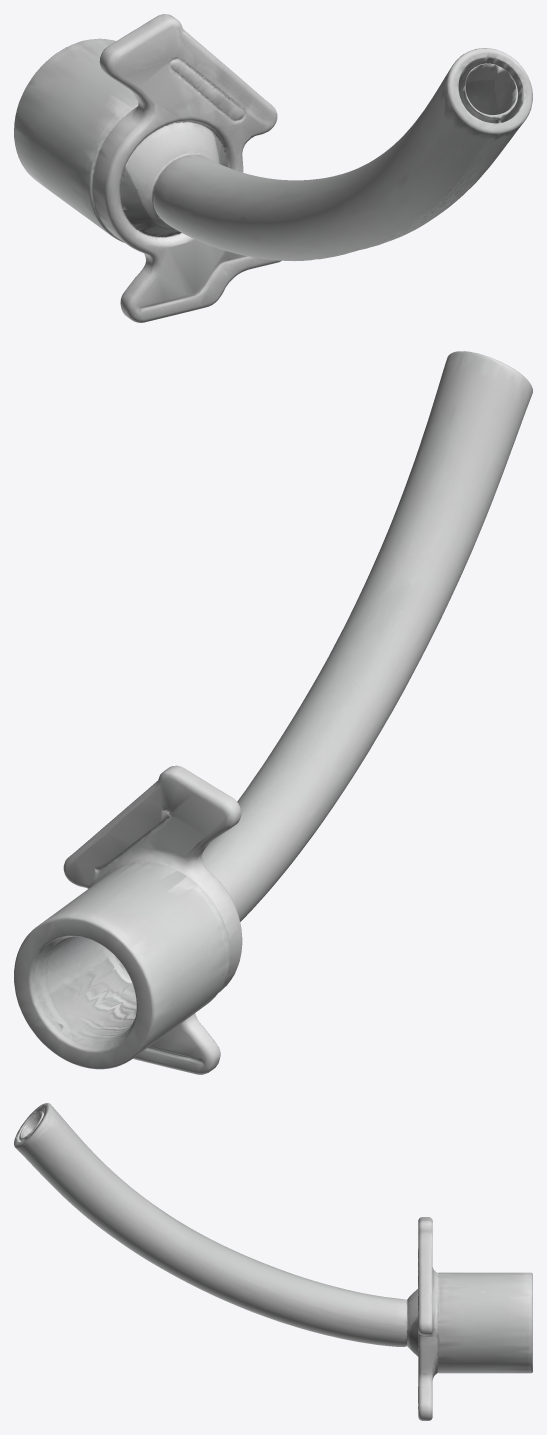
File: inner-cannula.glb
3 renders of one model, top to bottom at view 1: azimuth 30°, elevation 25°; view 2: azimuth 150°, elevation 25°; view 3: azimuth 270°, elevation 25°, orthographic. The views are drawn at different scales.
Visible parts, largest first — view 1: inner-cannula-01; view 2: inner-cannula-01; view 3: inner-cannula-01.
Part boxes in pixels (x1,y1,x2,y2): inner-cannula-01: (14,14,532,322); inner-cannula-01: (14,351,532,1074); inner-cannula-01: (14,1103,532,1420).
Size of the model in its own units: 0.5146 by 1.27 by 2.
1 material, 1 textured.
